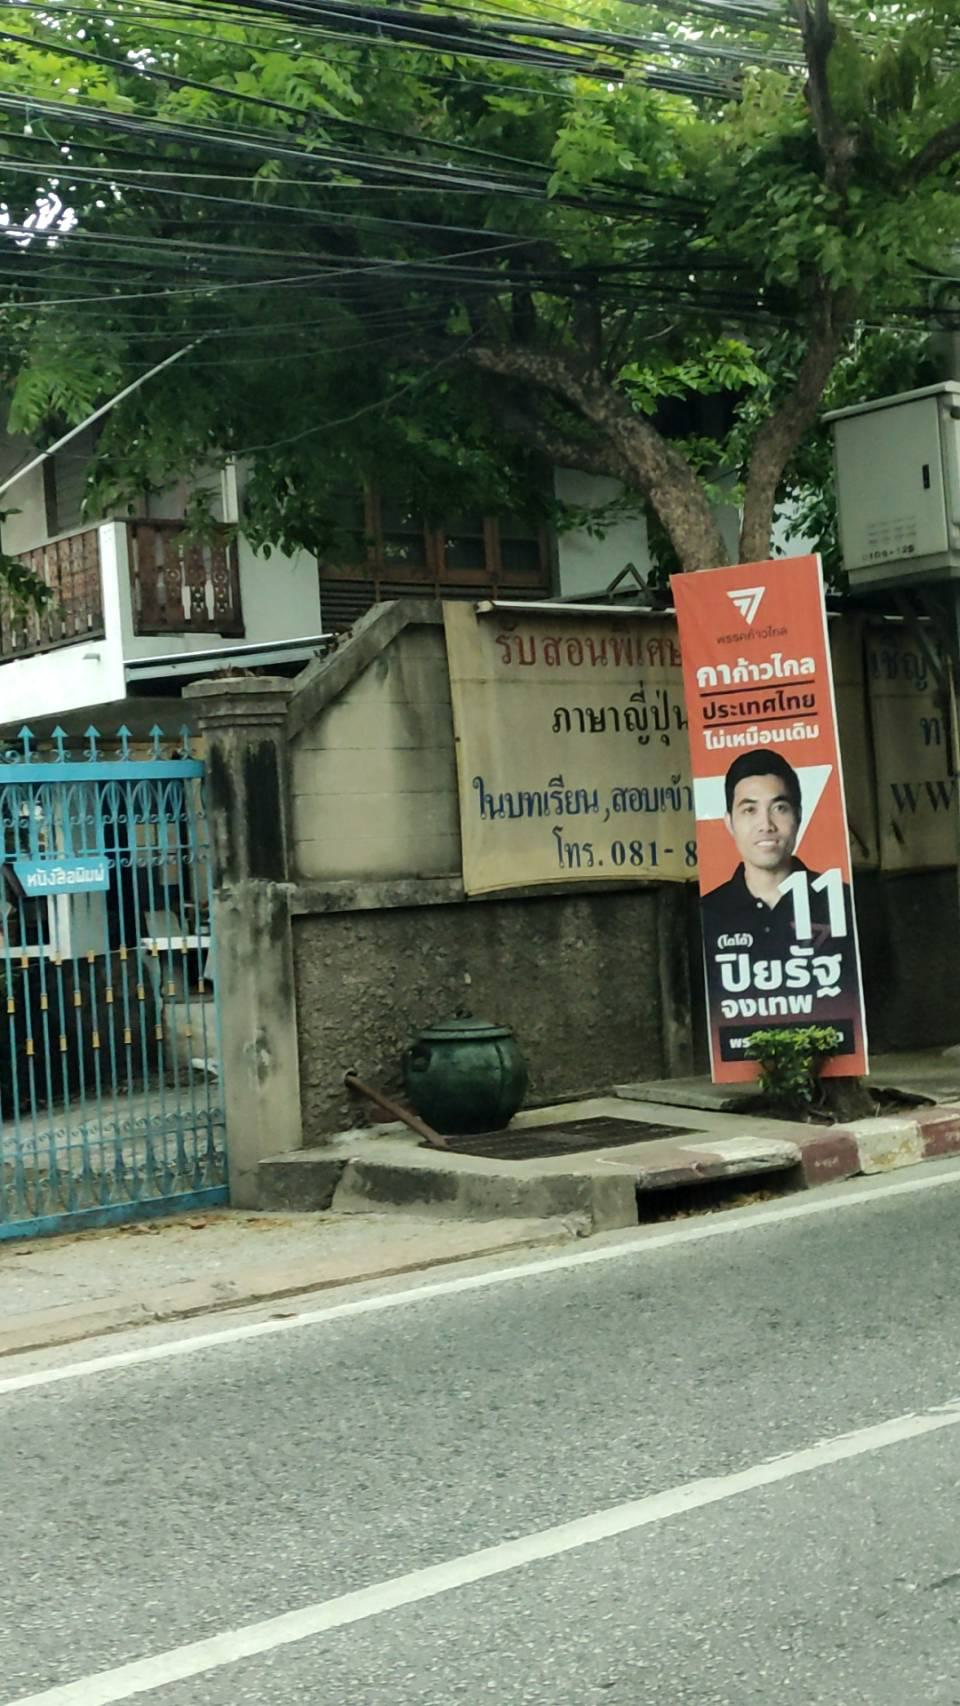Banner: (640, 533, 879, 1128)
